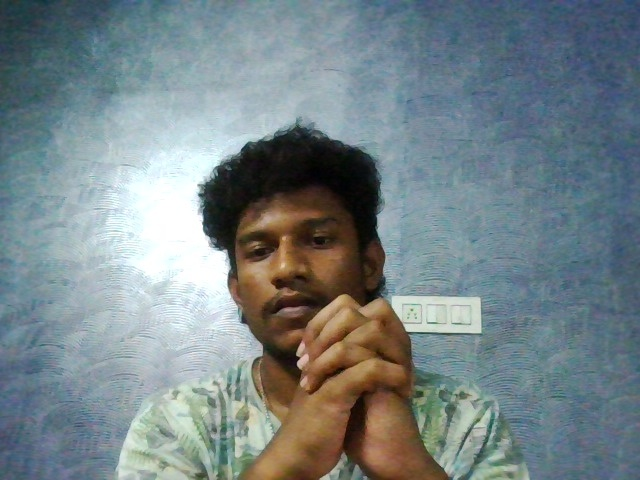together: (242, 275, 471, 480)
